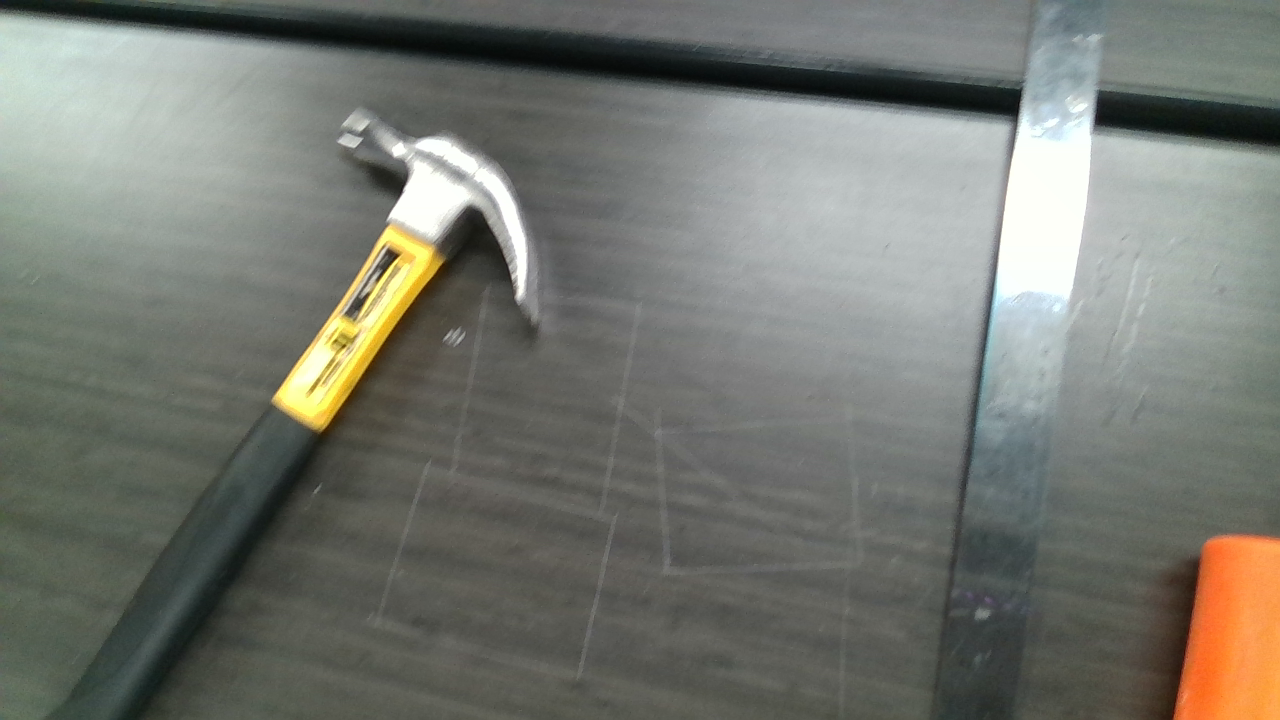Orange Hammer: (1169, 538, 1280, 720)
